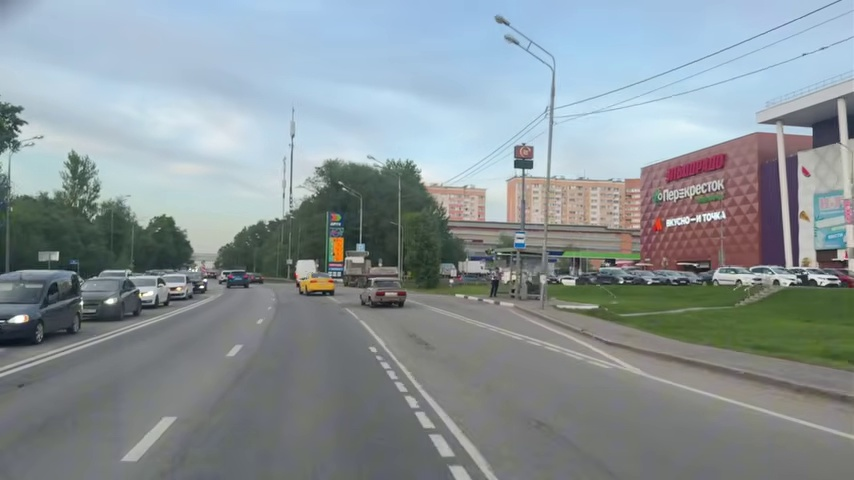apagada: (495, 28, 519, 50), (492, 14, 510, 28)
